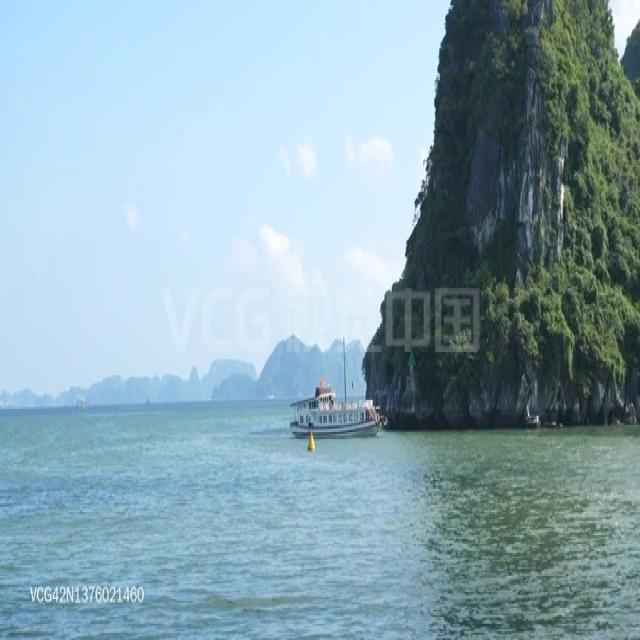passenger ship: (288, 376, 386, 434)
